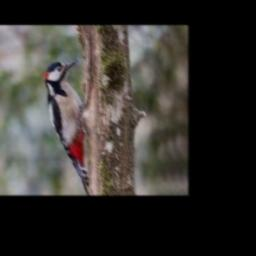Woodpecker: (45, 59, 89, 195)
